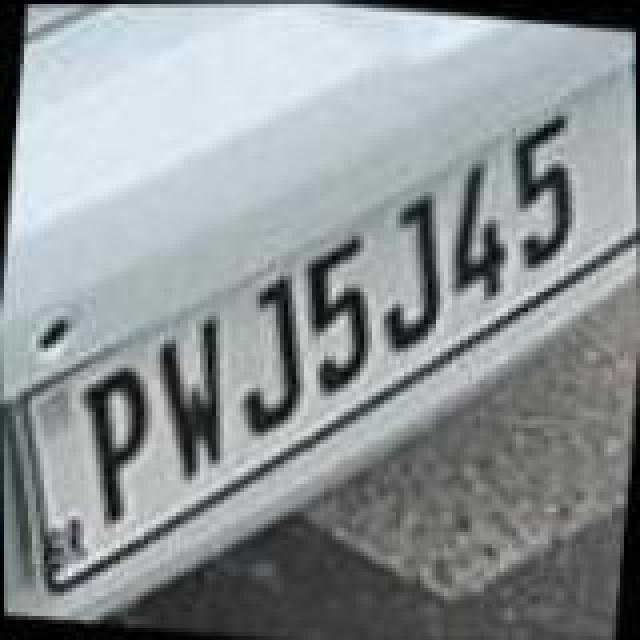4: (440, 154, 524, 310)
5: (290, 228, 390, 400), (496, 108, 588, 276)
J: (224, 266, 320, 442), (374, 186, 458, 358)
P: (62, 360, 158, 528)
W: (140, 308, 248, 484)
